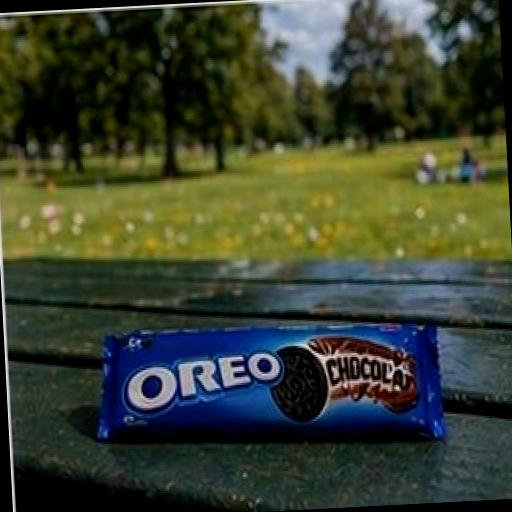oreo: (71, 258, 493, 501)
